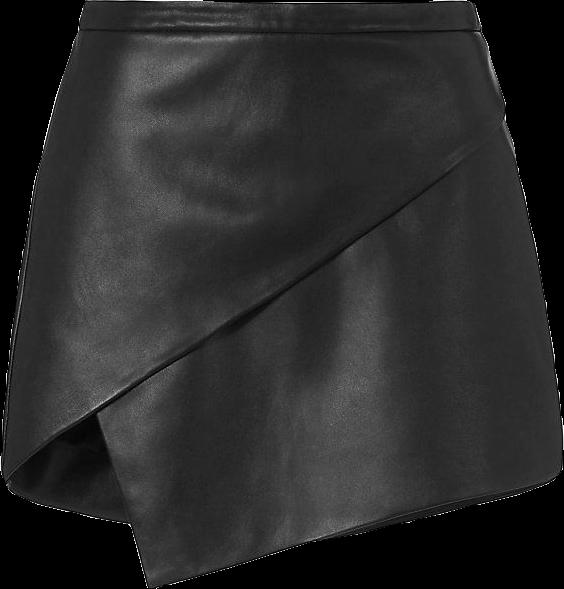Hemline: (1, 112, 507, 480), (92, 408, 563, 588)
Waistline: (74, 24, 481, 34), (84, 0, 470, 9)
